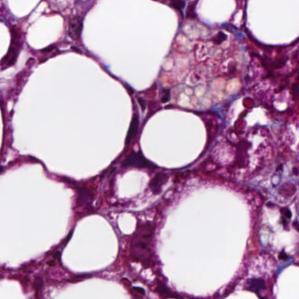inflammation: (248, 48, 299, 94), (127, 83, 181, 112)
